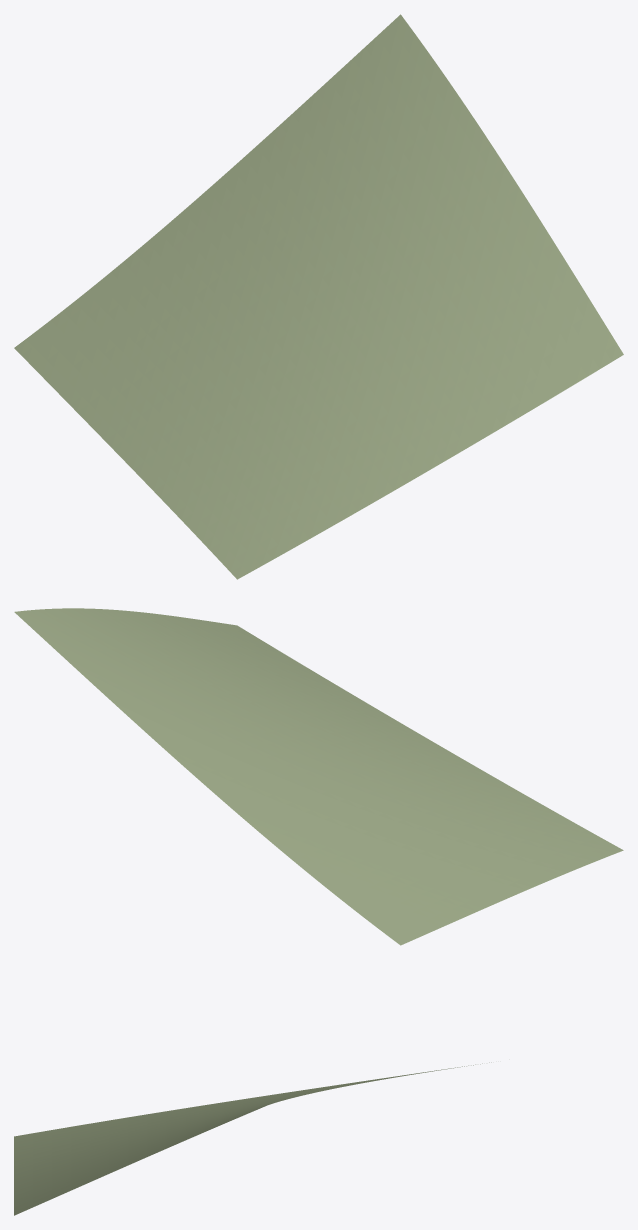
The model's file is alpine-5-8.glb.
3 renders of one model, top to bottom at view 1: azimuth 30°, elevation 25°; view 2: azimuth 150°, elevation 25°; view 3: azimuth 270°, elevation 25°, orthographic. The views are drawn at different scales.
Visible parts, largest first — view 1: alpine-5-8; view 2: alpine-5-8; view 3: alpine-5-8.
Part boxes in pixels (x1,y1,x2,y2): alpine-5-8: (14,14,623,579); alpine-5-8: (14,608,623,945); alpine-5-8: (14,1062,491,1215).
Size of the model in its own units: 256 by 195 by 256.
